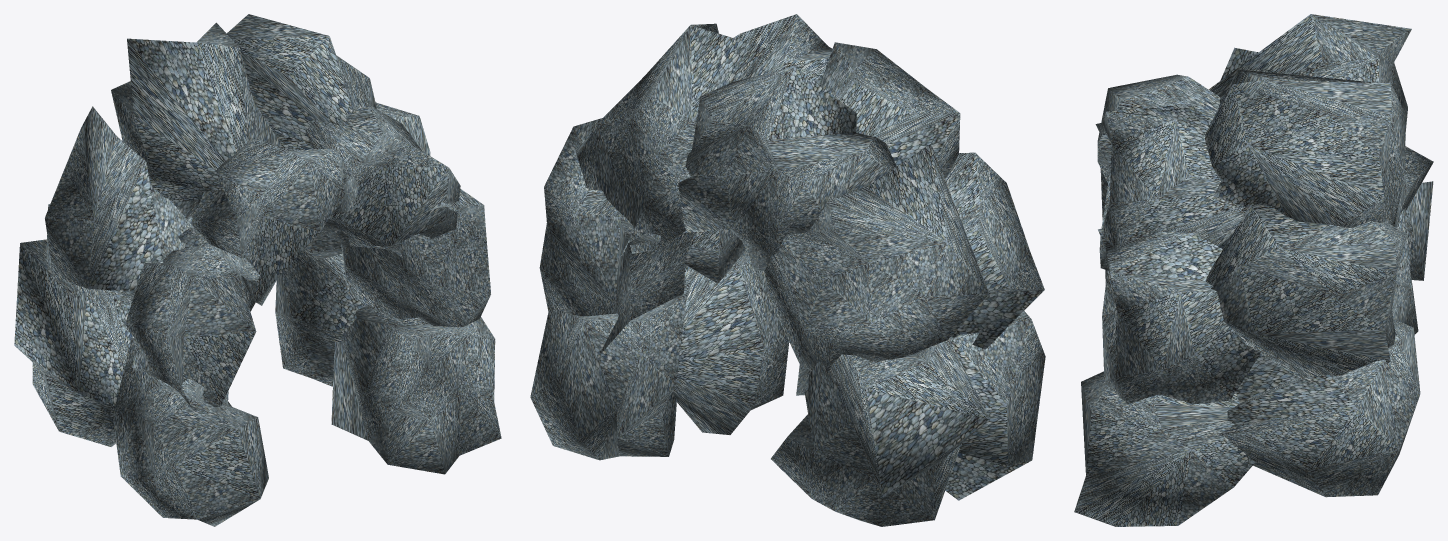
The model's file is cave_entrance.obj.
The picture shows the model from 3 angles, left to right: view 1: azimuth 30°, elevation 25°; view 2: azimuth 150°, elevation 25°; view 3: azimuth 270°, elevation 25°; orthographic projection. The views are drawn at different scales.
Visible parts, largest first — view 1: Cube_Cube.001; view 2: Cube_Cube.001; view 3: Cube_Cube.001.
Boxes of the visible parts, box(x1,y1,x2,y2) form: Cube_Cube.001: box(14, 14, 501, 526); Cube_Cube.001: box(530, 14, 1045, 526); Cube_Cube.001: box(1074, 14, 1433, 526).
Size of the model in its own units: 2.81 by 3.02 by 2.29.
